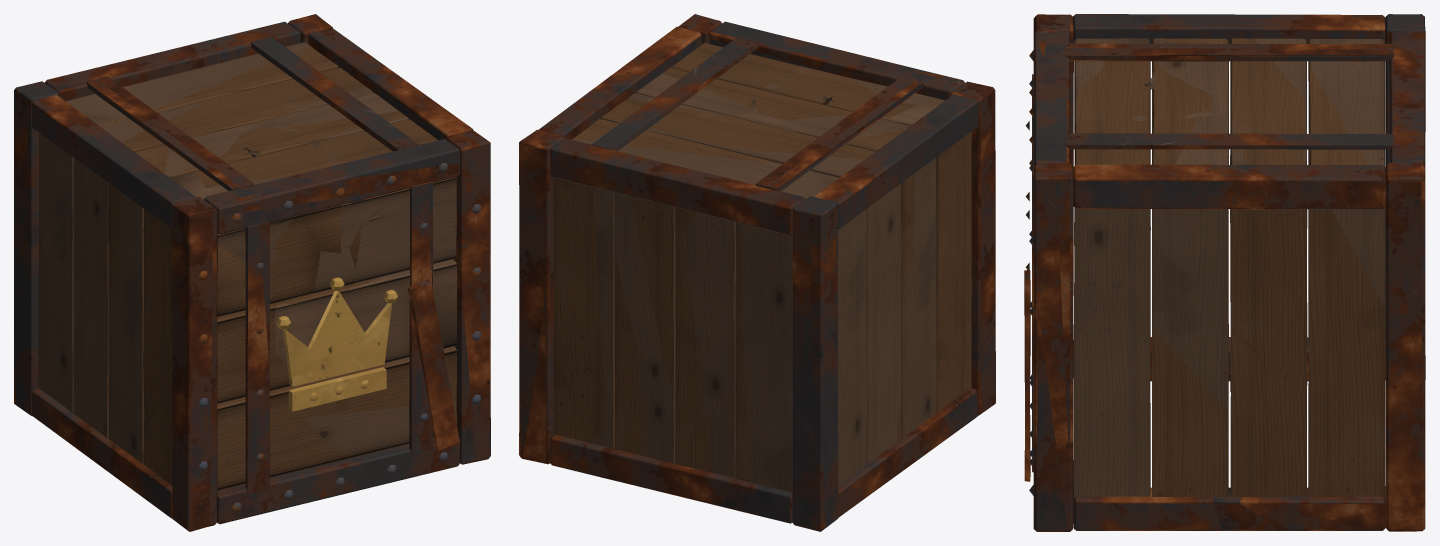
Rendered from Reinforced_Crate.glb.
The picture shows the model from 3 angles, left to right: view 1: azimuth 30°, elevation 25°; view 2: azimuth 150°, elevation 25°; view 3: azimuth 270°, elevation 25°; orthographic projection. The views are drawn at different scales.
Visible parts, largest first — view 1: Intact, Damaged, Piece_3, Piece_0, Piece_1, Piece_4, Piece_6, Piece_5, Piece_2; view 2: Intact, Damaged, Piece_6, Piece_7, Piece_0, Piece_5, Piece_4; view 3: Intact, Damaged, Piece_1, Piece_7, Piece_5, Piece_4, Piece_0.
Boxes of the visible parts, box(x1,y1,x2,y2) form: Intact: box(14, 19, 490, 531); Damaged: box(39, 42, 459, 493); Piece_3: box(274, 182, 456, 454); Piece_0: box(171, 197, 460, 531); Piece_1: box(454, 130, 490, 463); Piece_4: box(170, 139, 460, 234); Piece_6: box(14, 87, 38, 416); Piece_5: box(86, 79, 406, 190); Piece_2: box(245, 199, 365, 493); Intact: box(519, 19, 982, 529); Damaged: box(553, 79, 971, 474); Piece_6: box(675, 208, 838, 531); Piece_7: box(519, 129, 675, 464); Piece_0: box(953, 81, 995, 415); Piece_5: box(663, 68, 924, 190); Piece_4: box(710, 21, 964, 125); Intact: box(1025, 14, 1425, 531); Damaged: box(1024, 38, 1393, 498); Piece_1: box(1033, 165, 1385, 531); Piece_7: box(1230, 163, 1425, 531); Piece_5: box(1064, 38, 1393, 164); Piece_4: box(1033, 30, 1150, 165); Piece_0: box(1034, 14, 1070, 33).
Size of the model in its own units: 1 by 1.01 by 1.03.
Materials: 4 (4 with a texture image).
